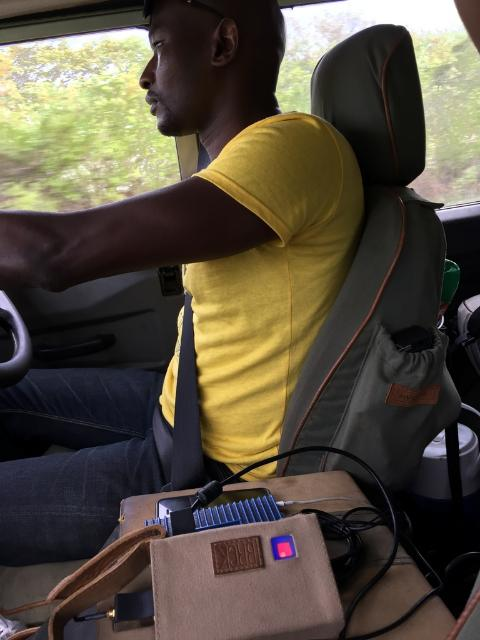Seatbelt: (149, 296, 203, 488)
